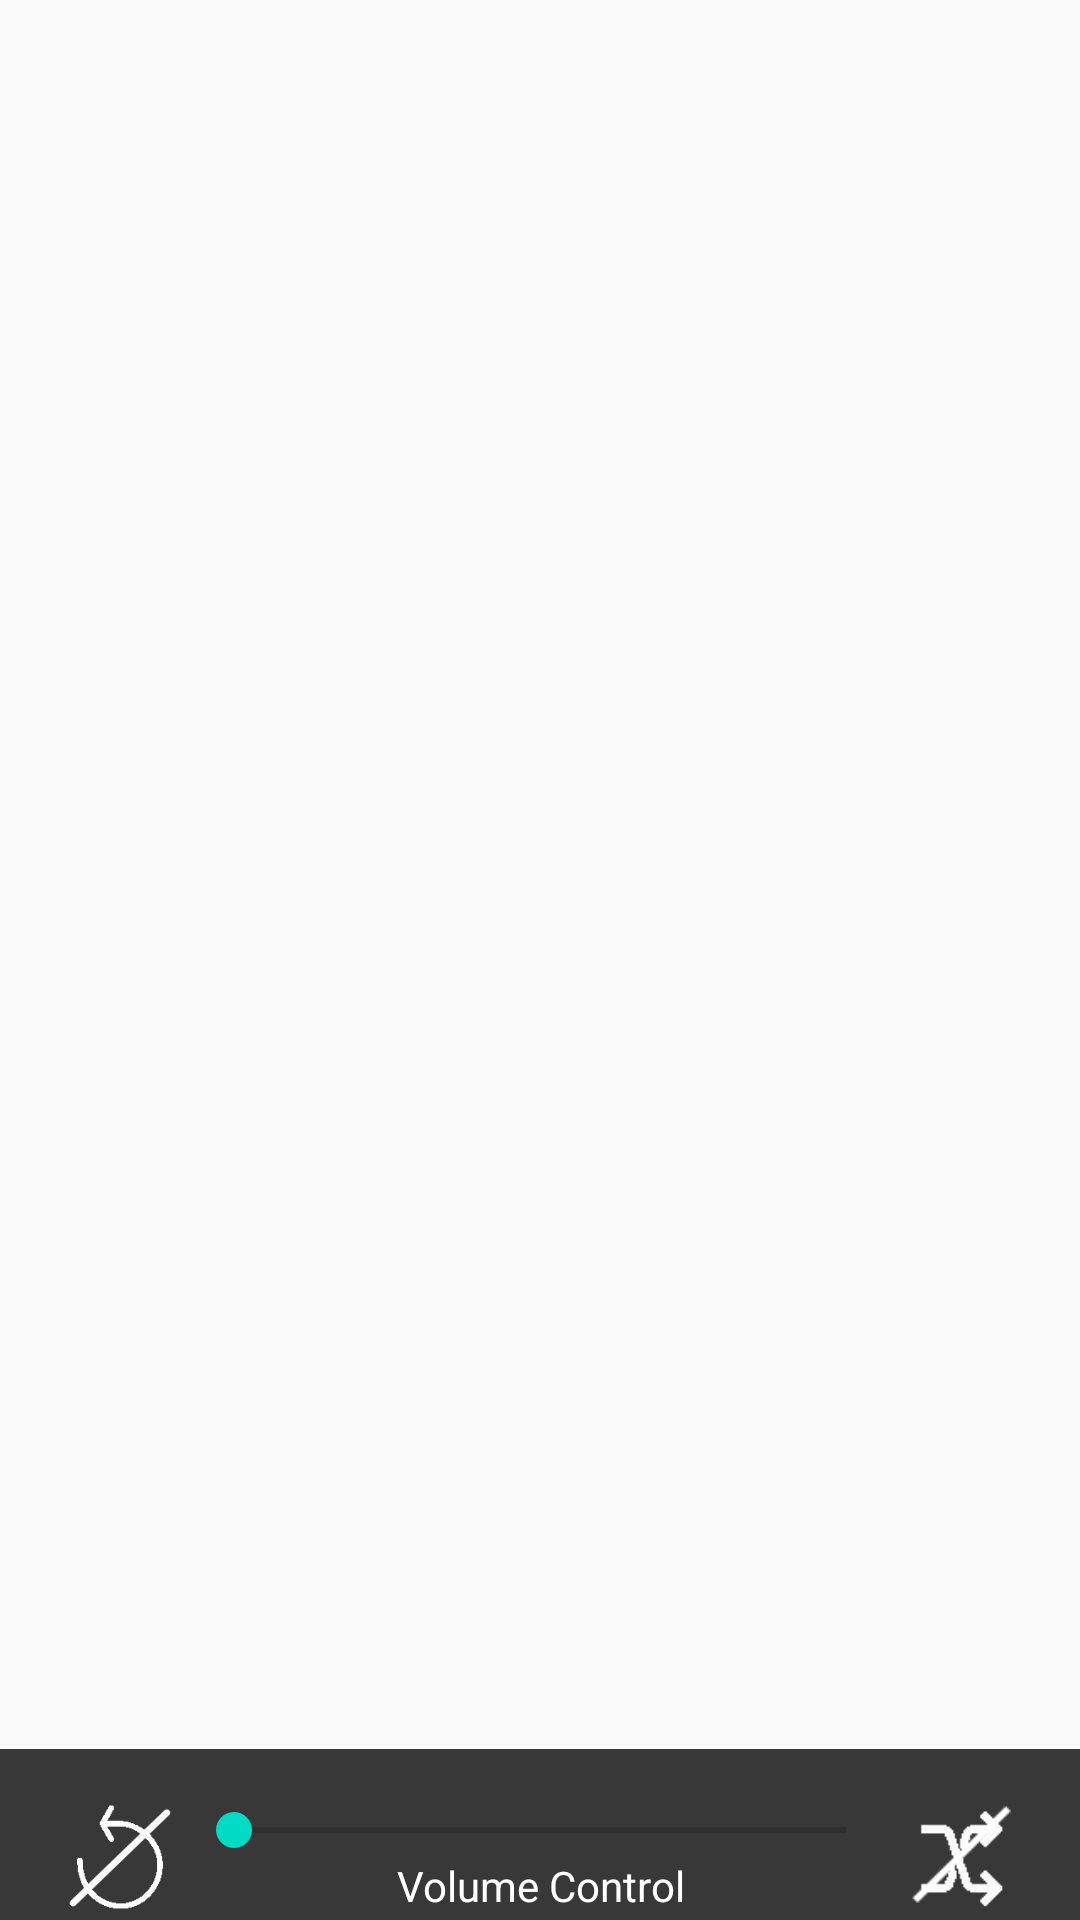

Where icons sit on this 1080 × 1920 app screen, as (x1, y1, x2, y2):
repeat not: (69, 1805, 171, 1909)
shuffle not: (912, 1806, 1011, 1907)
